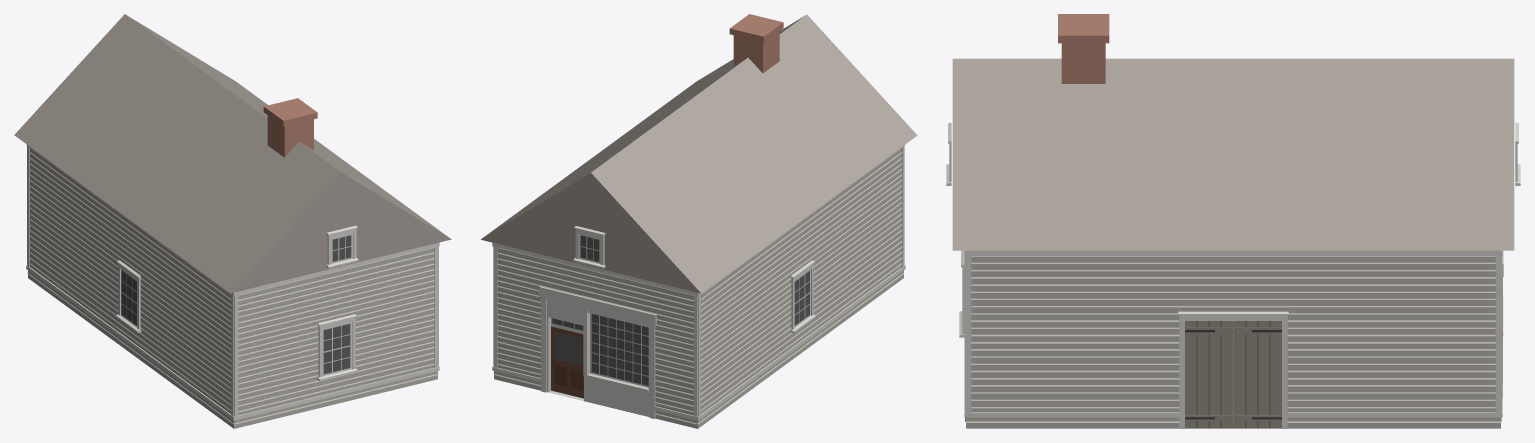
File: recon_1835_core_c2_052__inferred_1835.glb
3 views of the same model, side by side, from view 1: azimuth 30°, elevation 25°; view 2: azimuth 150°, elevation 25°; view 3: azimuth 270°, elevation 25° (orthographic). The views are drawn at different scales.
Visible parts, largest first — view 1: recon_1835_core_c2_052__inferred_1835; view 2: recon_1835_core_c2_052__inferred_1835; view 3: recon_1835_core_c2_052__inferred_1835.
Boxes of the visible parts, box(x1,y1,x2,y2) form: recon_1835_core_c2_052__inferred_1835: box(14, 14, 451, 428); recon_1835_core_c2_052__inferred_1835: box(481, 14, 917, 428); recon_1835_core_c2_052__inferred_1835: box(946, 14, 1520, 428).
Size of the model in its own units: 6.34 by 7.15 by 10.98.
